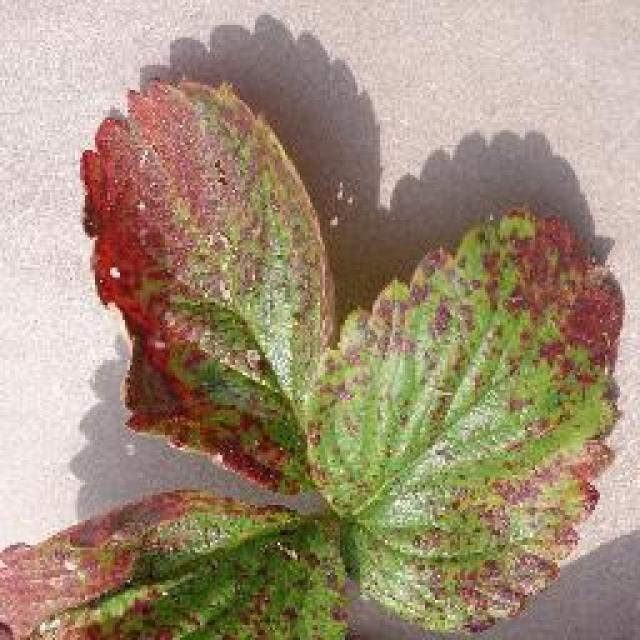Strawberry leaf scorch: (59, 55, 598, 595)
